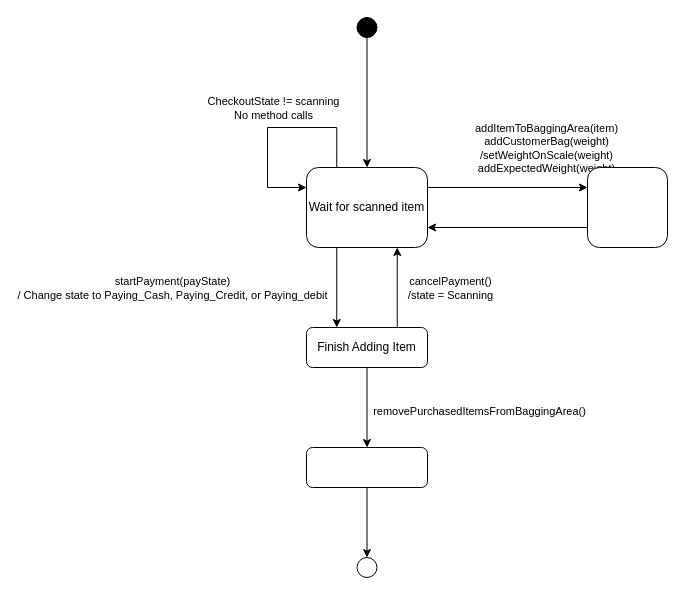
Some shapes in this 685 by 595 pixel diagram are drawn without their labels. The box of each missing label's shape, as (x1, y1, x2, y2) in pixels:
Adding Item: (586, 166, 668, 248)
Removing Items: (306, 446, 428, 488)
